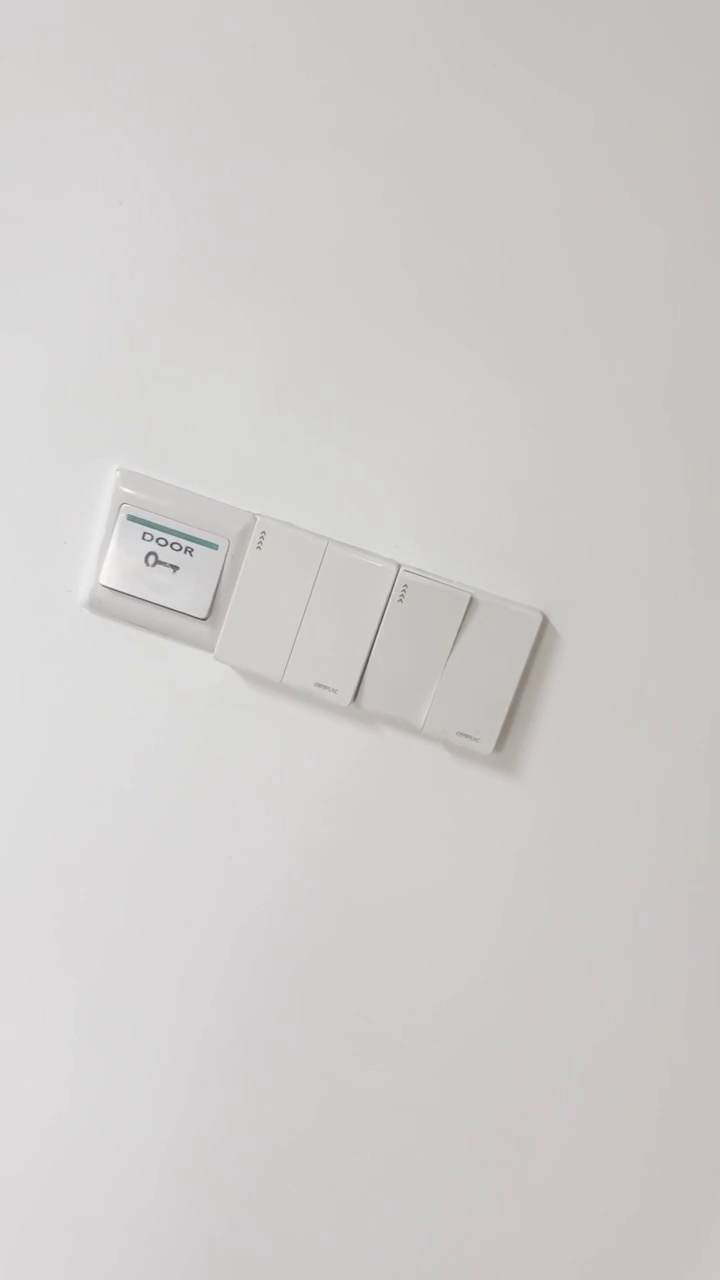button: (349, 556, 553, 760), (205, 508, 403, 715)
